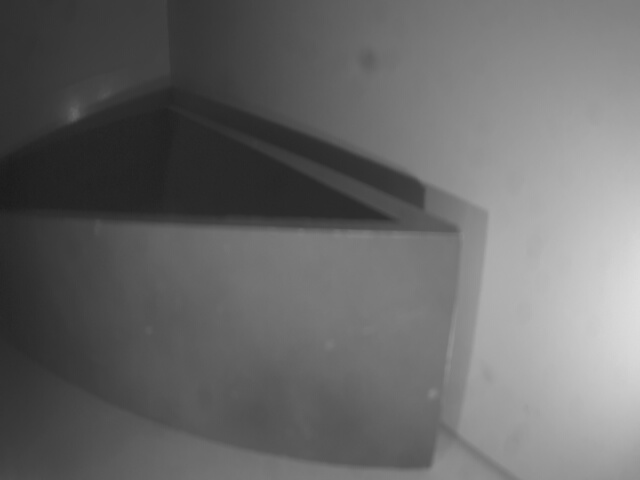Green: (0, 231, 460, 468)
